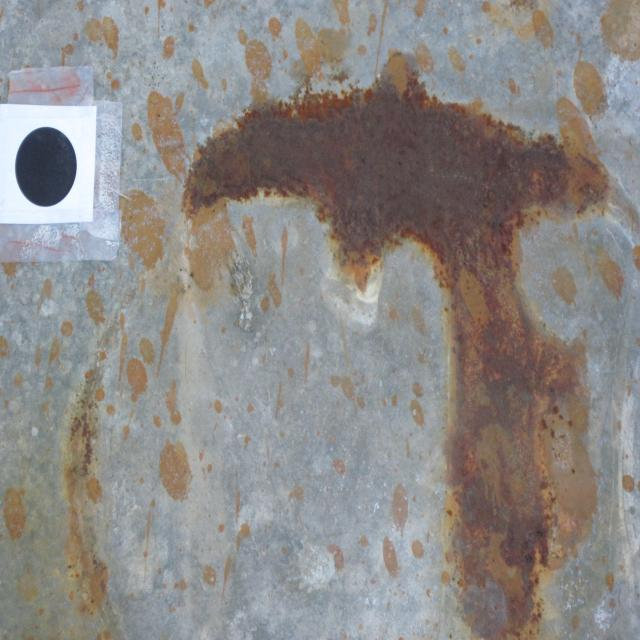corrosion: (177, 70, 607, 637)
